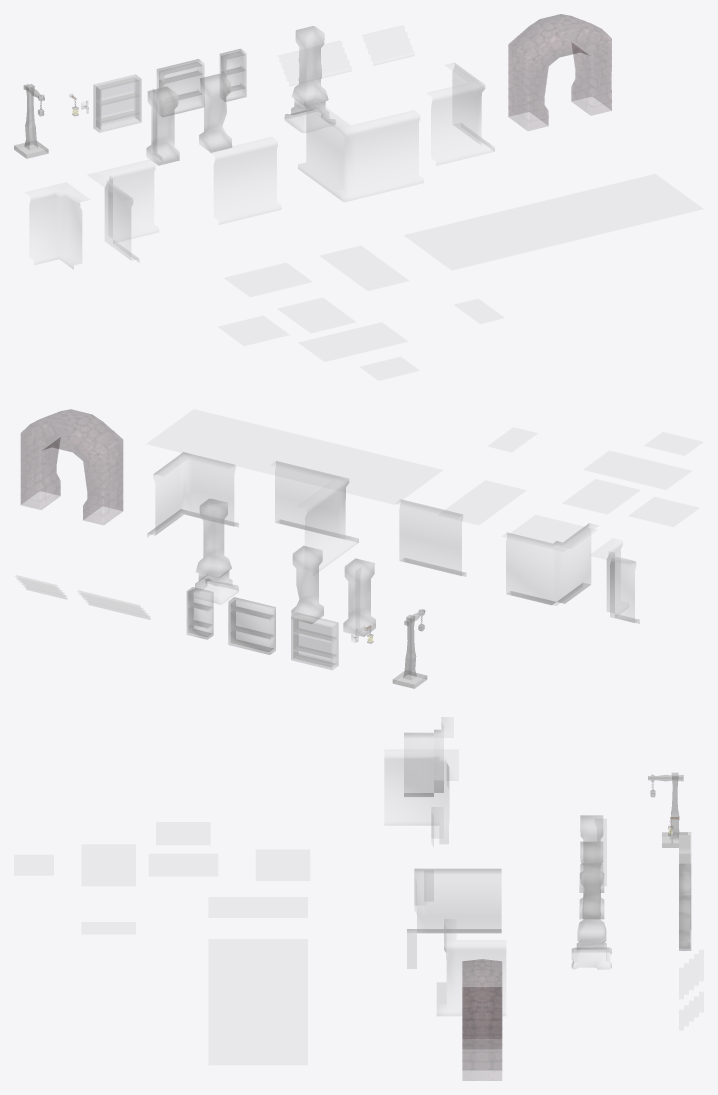
The model's file is Dungeon Set free.fbx.
The picture shows the model from 3 angles, top to bottom: view 1: azimuth 30°, elevation 25°; view 2: azimuth 150°, elevation 25°; view 3: azimuth 270°, elevation 25°; orthographic projection. The views are drawn at different scales.
Visible parts, largest first — view 1: Floor Large x10.002, Wall Corner outside Big.003, Gate Type A.001, Wall Center.026, Wall Corner outside Small.003, Wall Corner inside Big.003, Wall Corner inside Small.003, Pillar.001, Bookcase Big Type A, Bookcase Big Type B, Floor Gate Front-Back.005, Pillar (+11 smaller); view 2: Floor Large x10.002, Gate Type A.001, Wall Corner outside Big.003, Wall Corner inside Big.003, Wall Corner outside Small.003, Wall Center.026, Pillar.001, Bookcase Big Type A, Bookcase Big Type B, Wall Corner inside Small.003, Floor Gate Front-Back.005, Pillar (+11 smaller); view 3: Floor Large x10.002, Wall Corner outside Big.003, Wall Corner inside Big.003, Gate Type A.001, Wall Corner outside Small.003, Wall Corner inside Small.003, Pillar.001, Floor Gate Front-Back.005, Plane.023, Floor Corner Center.028, Pillar Damaged, Floor Corner Center.029 (+8 smaller).
Part boxes in pixels (box(x1,y1,x2,y2)): Floor Large x10.002: box(404, 174, 702, 269); Wall Corner outside Big.003: box(298, 99, 423, 201); Gate Type A.001: box(508, 14, 611, 130); Wall Center.026: box(210, 137, 280, 224); Wall Corner outside Small.003: box(427, 63, 494, 165); Wall Corner inside Big.003: box(88, 160, 158, 261); Wall Corner inside Small.003: box(25, 182, 89, 268); Pillar.001: box(285, 26, 335, 132); Bookcase Big Type A: box(93, 74, 141, 132); Bookcase Big Type B: box(157, 59, 204, 116); Floor Gate Front-Back.005: box(299, 322, 407, 361); Pillar: box(146, 86, 179, 165); Floor Large x10.002: box(147, 409, 442, 504); Gate Type A.001: box(21, 409, 122, 524); Wall Corner outside Big.003: box(271, 461, 358, 570); Wall Corner inside Big.003: box(502, 523, 597, 605); Wall Corner outside Small.003: box(147, 452, 238, 536); Wall Center.026: box(396, 499, 466, 576); Pillar.001: box(189, 499, 238, 604); Bookcase Big Type A: box(291, 612, 338, 669); Bookcase Big Type B: box(228, 597, 275, 654); Wall Corner inside Small.003: box(590, 538, 639, 623); Floor Gate Front-Back.005: box(584, 451, 690, 489); Pillar: box(343, 558, 375, 636); Floor Large x10.002: box(209, 939, 307, 1064); Wall Corner outside Big.003: box(407, 869, 501, 968); Wall Corner inside Big.003: box(385, 750, 458, 843); Gate Type A.001: box(462, 959, 502, 1080); Wall Corner outside Small.003: box(437, 919, 505, 1015); Wall Corner inside Small.003: box(404, 717, 453, 796); Pillar.001: box(572, 863, 611, 968); Floor Gate Front-Back.005: box(82, 845, 135, 885); Plane.023: box(209, 897, 307, 917); Floor Corner Center.028: box(256, 850, 309, 880); Pillar Damaged: box(579, 842, 603, 918); Floor Corner Center.029: box(149, 854, 217, 875).
Bounding box in the file's own units: 2815 × 421 × 2770.
